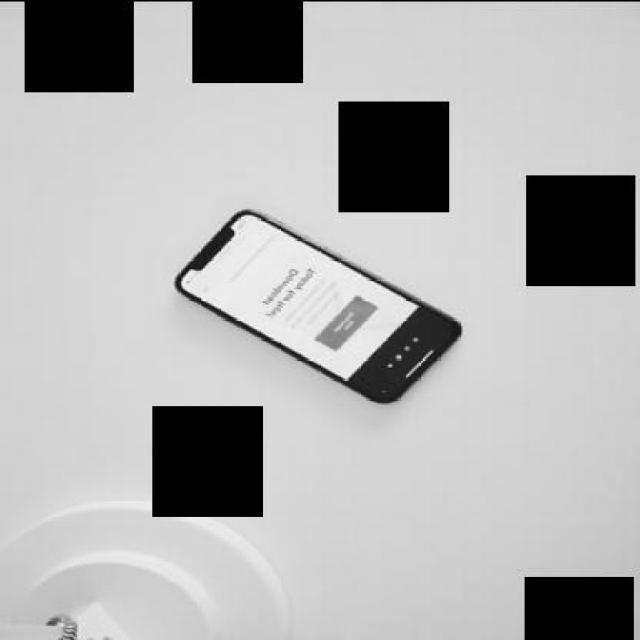fake: (176, 204, 476, 404)
